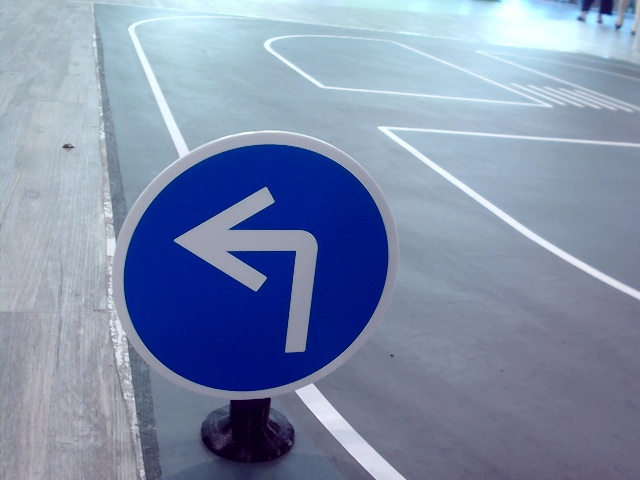turn_left: (179, 181, 322, 360)
